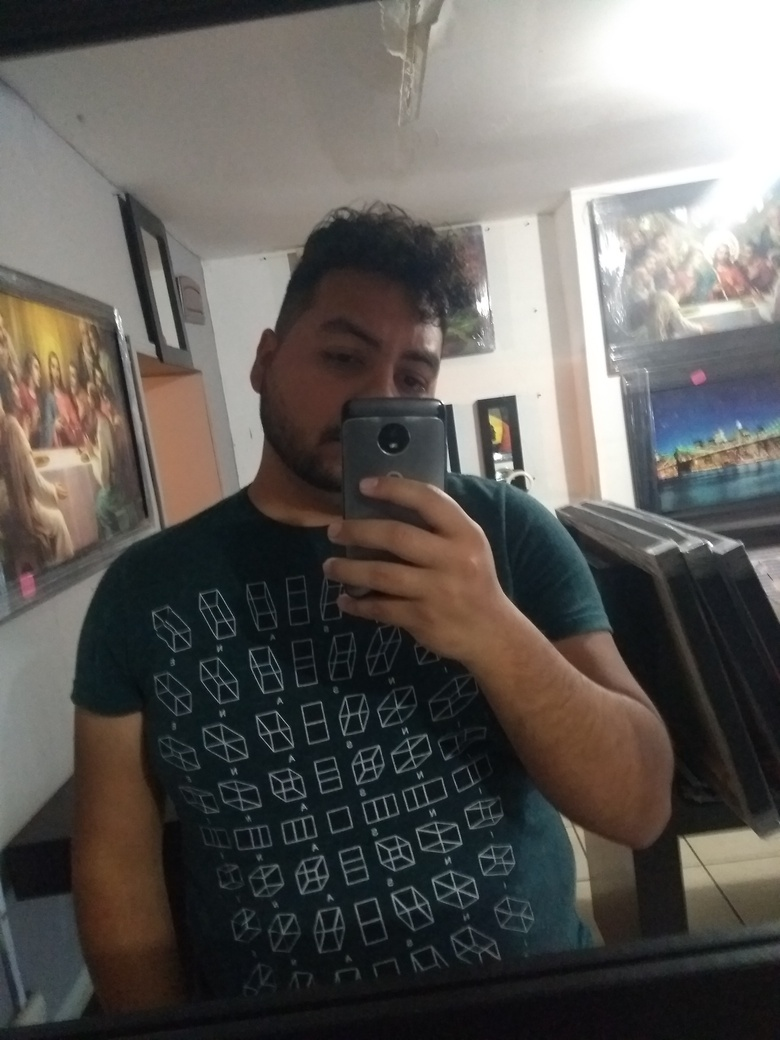Yoshi: (249, 177, 516, 544)
